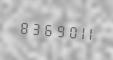eight: (17, 16, 27, 37)
nine: (50, 19, 60, 40)
one: (72, 21, 82, 42), (83, 22, 93, 43)
six: (39, 18, 49, 39)
three: (28, 17, 38, 38)
zero: (61, 20, 71, 41)
